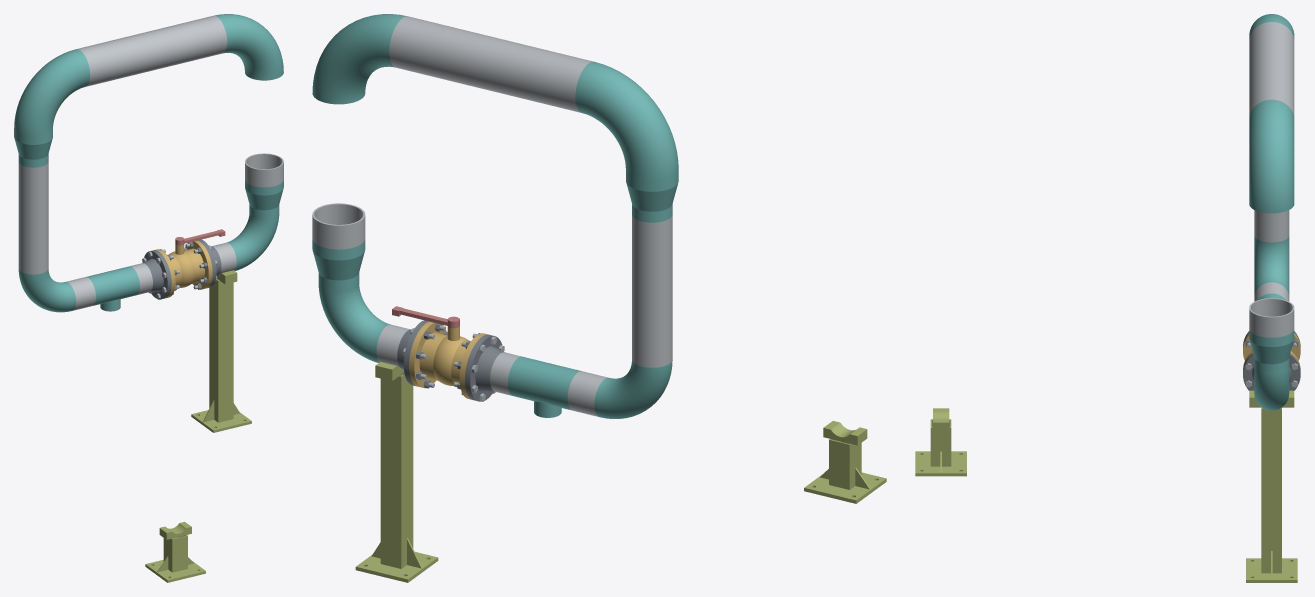
Rendered from step_76.glb.
3 renders of one model, left to right at view 1: azimuth 30°, elevation 25°; view 2: azimuth 150°, elevation 25°; view 3: azimuth 270°, elevation 25°, orthographic. The views are drawn at different scales.
Parts seen in each view (by area): view 1: part__8" pipe, top run, 890 long, part__pipe support SP-101, tall, part__8" elbow top left, part__6" pipe, left riser, 664 long, part__8" elbow top right, part__pipe support SP-101, short, part__6" ball valve body BV-101, part__6" elbow bottom left, part__6" x 4" reducing tee, part__6" elbow bottom right, part__8" pipe, right leg below the gate valve, 109 long, part__reducer left riser (+6 smaller); view 2: part__8" pipe, top run, 890 long, part__pipe support SP-101, tall, part__8" elbow top left, part__6" pipe, left riser, 664 long, part__8" elbow top right, part__pipe support SP-101, short, part__6" ball valve body BV-101, part__6" elbow bottom left, part__6" x 4" reducing tee, part__6" elbow bottom right, part__8" pipe, right leg below the gate valve, 109 long, part__reducer right leg (+5 smaller); view 3: part__8" elbow top right, part__pipe support SP-101, tall, part__8" pipe, top run, 890 long, part__pipe support SP-101, short, part__6" elbow bottom left, part__8" pipe, right leg below the gate valve, 109 long, part__reducer right leg, part__6" elbow bottom right, part__6" pipe, left riser, 664 long, part__6" flange, ball valve outlet.
Boxes of the visible parts, x1,y1,x2,y2 form: part__8" pipe, top run, 890 long: (76,15,227,86); part__pipe support SP-101, tall: (191,270,251,432); part__8" elbow top left: (14,49,90,136); part__6" pipe, left riser, 664 long: (18,162,48,274); part__8" elbow top right: (214,14,283,80); part__pipe support SP-101, short: (145,521,205,582); part__6" ball valve body BV-101: (154,240,212,298); part__6" elbow bottom left: (18,269,76,312); part__6" x 4" reducing tee: (86,266,139,311); part__6" elbow bottom right: (227,212,279,270); part__8" pipe, right leg below the gate valve, 109 long: (245,153,283,187); part__reducer left riser: (14,129,52,167); part__8" pipe, top run, 890 long: (389,16,592,112); part__pipe support SP-101, tall: (355,362,438,582); part__8" elbow top left: (575,61,678,180); part__6" pipe, left riser, 664 long: (632,215,672,367); part__8" elbow top right: (312,14,406,104); part__pipe support SP-101, short: (804,421,886,503); part__6" ball valve body BV-101: (409,321,487,399); part__6" elbow bottom left: (594,360,672,418); part__6" x 4" reducing tee: (507,356,581,417); part__6" elbow bottom right: (318,283,390,362); part__8" pipe, right leg below the gate valve, 109 long: (312,203,365,249); part__reducer right leg: (312,239,365,291); part__8" elbow top right: (1249,99,1294,213); part__pipe support SP-101, tall: (1246,390,1297,582); part__8" pipe, top run, 890 long: (1249,22,1294,116); part__pipe support SP-101, short: (915,408,966,476); part__6" elbow bottom left: (1254,236,1289,296); part__8" pipe, right leg below the gate valve, 109 long: (1249,298,1294,337); part__reducer right leg: (1249,330,1294,373); part__6" elbow bottom right: (1254,367,1289,410); part__6" pipe, left riser, 664 long: (1254,210,1289,242); part__6" flange, ball valve outlet: (1243,353,1300,390).
Size of the model in its own units: 1735 by 2510 by 1865.
